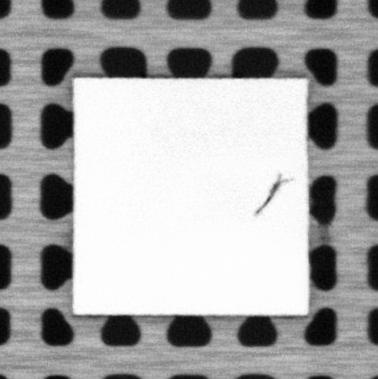DIE_INK: (252, 172, 295, 217)
